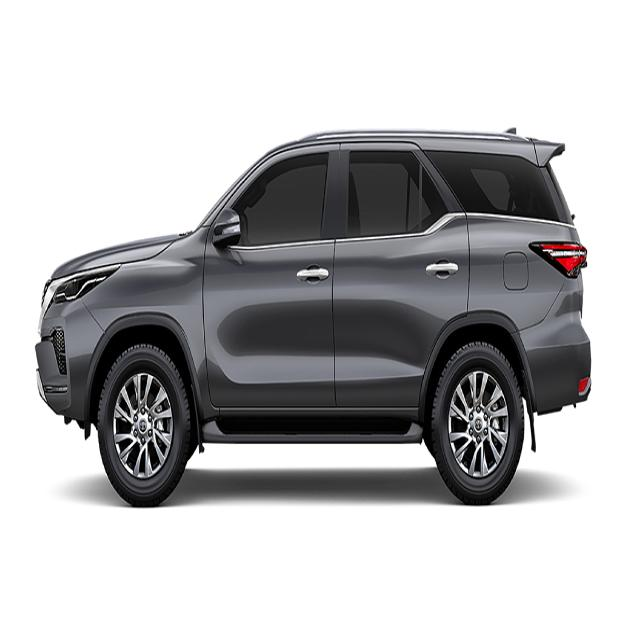light_vehicle: (35, 129, 592, 510)
